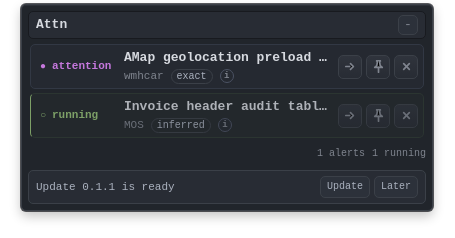
Test: StatusPanelView › shows an explicit install failure without surfacing background check failures
Click the button with aria-label "Download 0.1.1 and restart Attn" at (345, 187), box [320, 176, 370, 198]
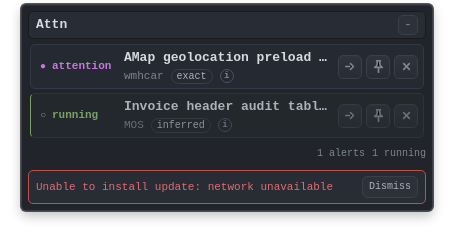
Expected: the text "Unable to install update: network unavailable" is shown, [36, 180, 356, 194]
Expected: the button "Dismiss" is shown, [362, 176, 418, 198]
